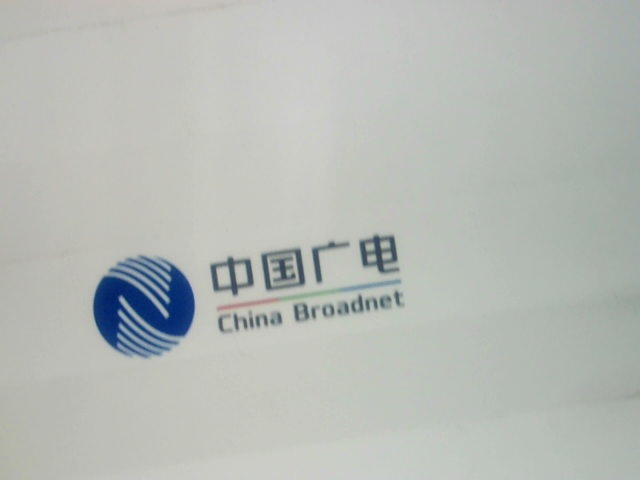AW_ChinaBroadNet: (82, 234, 419, 363)
